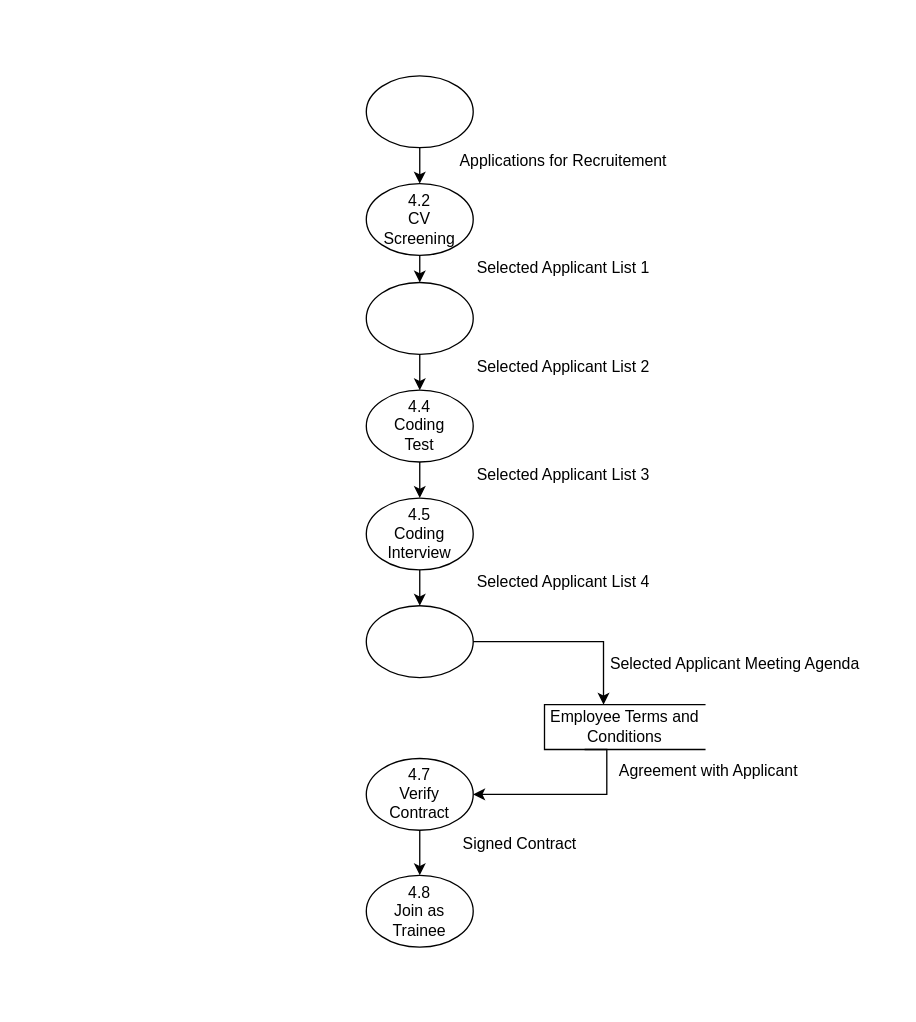
The diagram is 916 pixels wide and 1022 high, and some of its shapes have lost their labels. Each missing label, with the centre of its shape:
"4.1 Accept Applications" belongs at point 419,111.
"4.3 Online MCQ Test" belongs at point 419,317.
"4.6 HR Interview" belongs at point 419,641.
